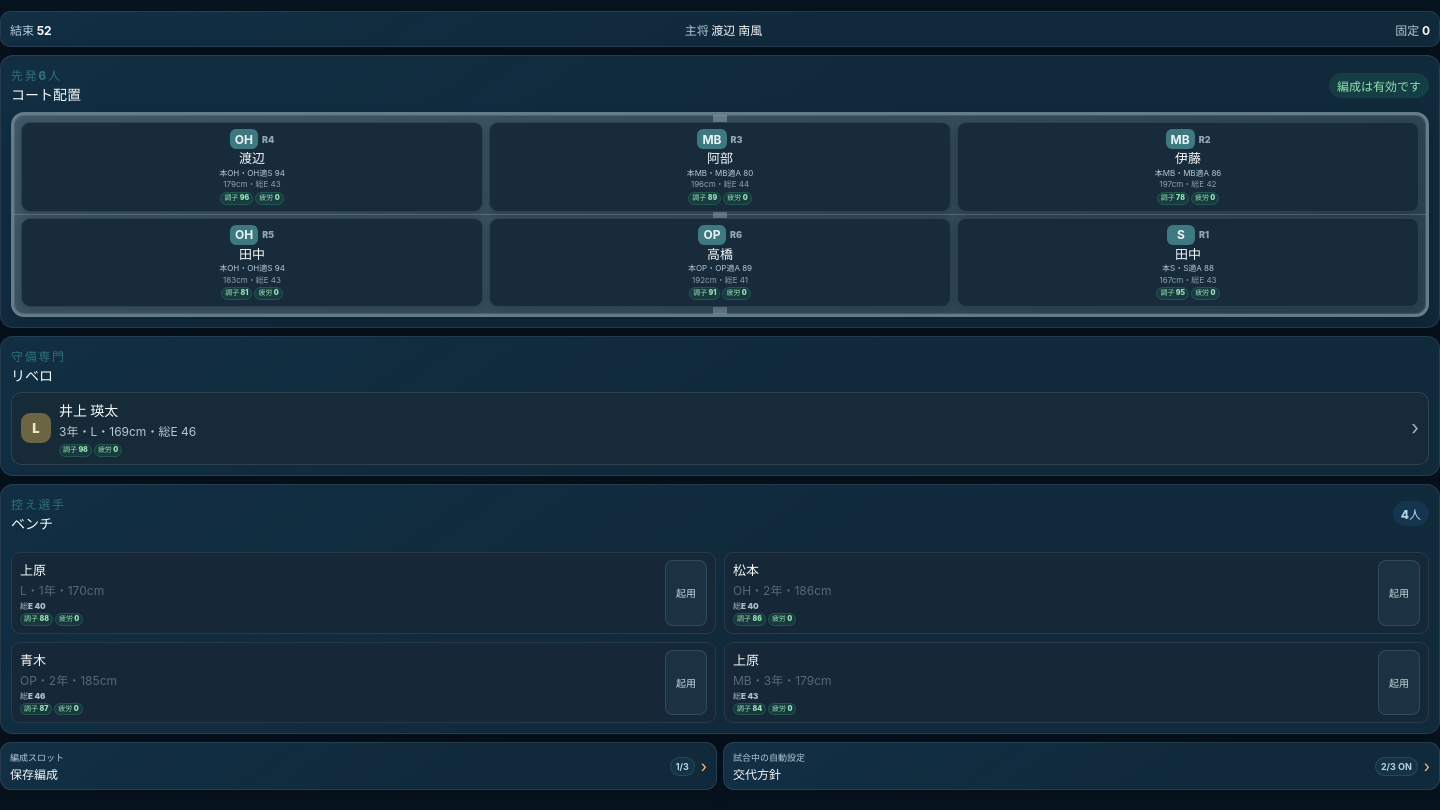
TeamScreen saved lineups › keeps an invalid saved snapshot visible but blocks apply
The image size is (1440, 810).
(page scrolled)
Click the button with aria-label "保存編成を開く" at (37, 757), box [0, 742, 717, 790]
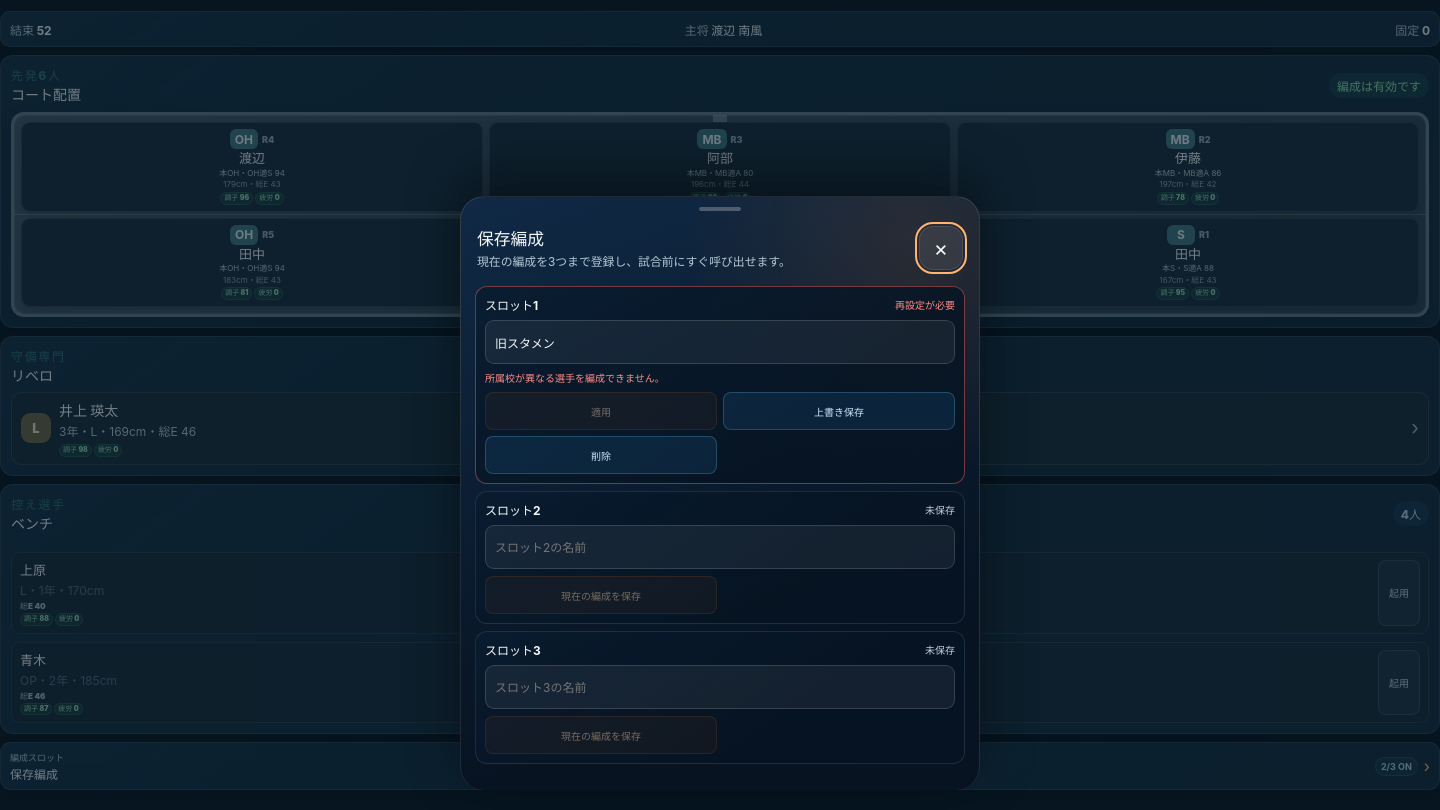
Now the dialog "保存編成" is shown, box [460, 196, 980, 790]
Now the text "再設定が必要" is shown, box [895, 297, 955, 312]
Now the button "適用" is disabled, box [485, 392, 717, 430]
